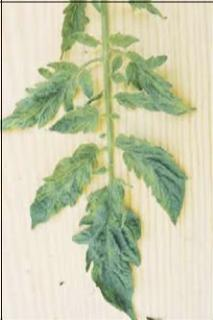Tomato leaf mosaic virus: (81, 177, 144, 315), (113, 134, 186, 222), (6, 60, 94, 132), (118, 47, 198, 112), (49, 104, 103, 134)
